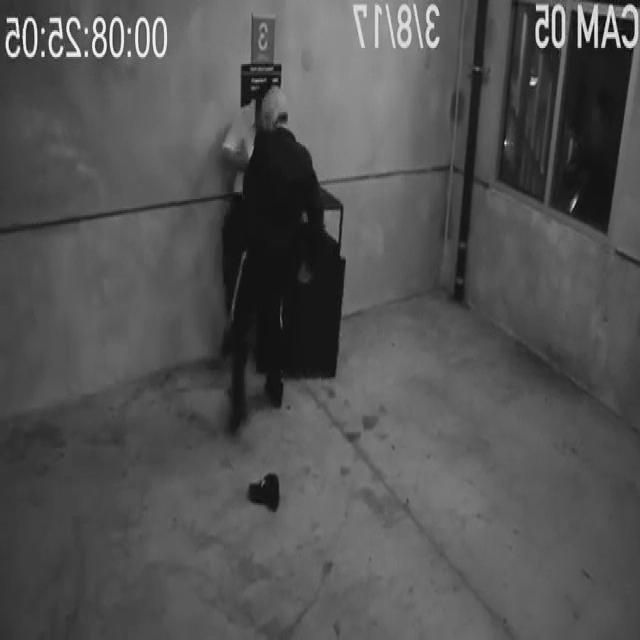fight: (195, 76, 333, 448)
